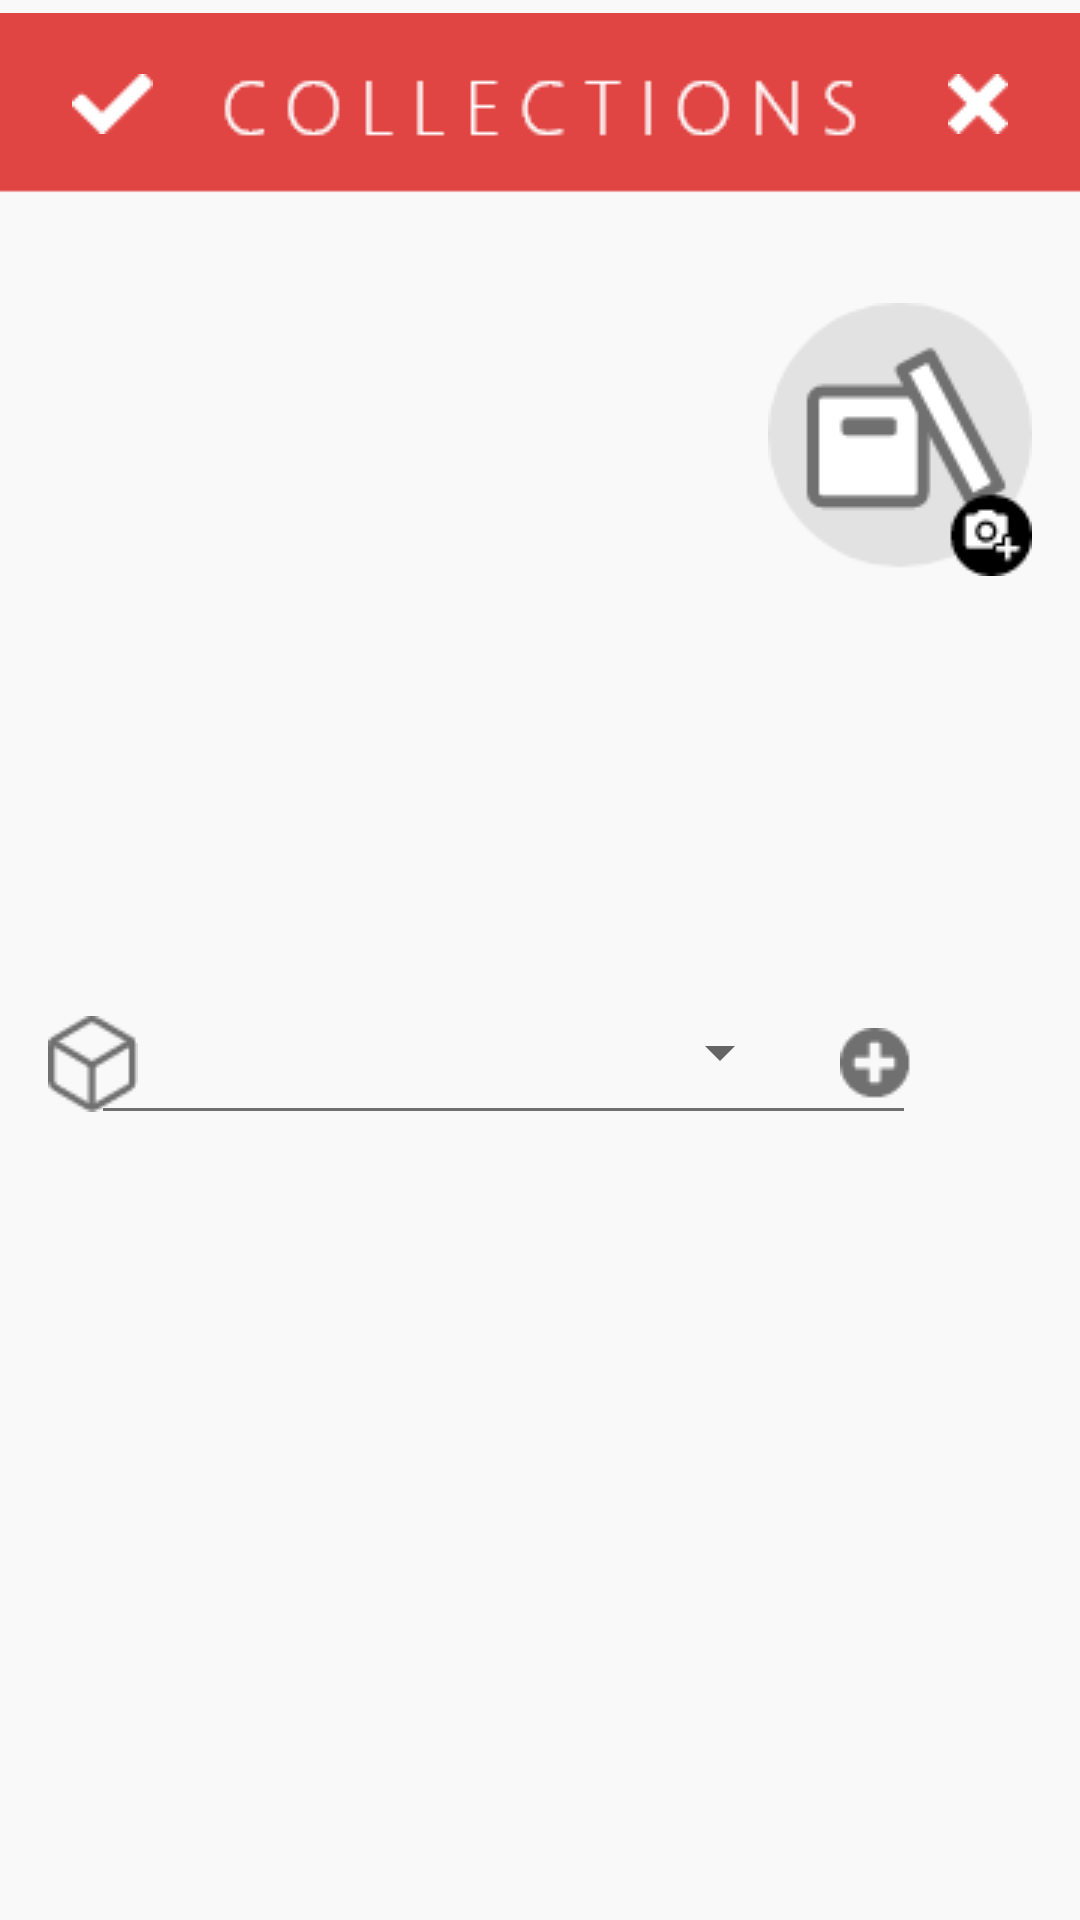

Screen size 1080px×1920px. Icon name, then its center in pixels as (x=x, y=y):
create: (x=875, y=1063)
cube: (x=93, y=1064)
